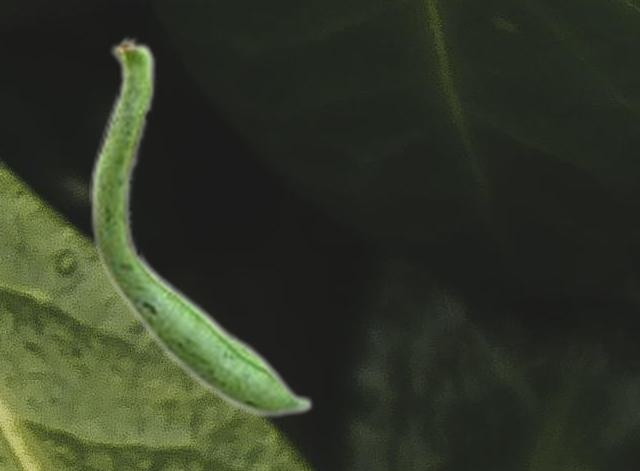french_bean: (89, 34, 313, 418)
